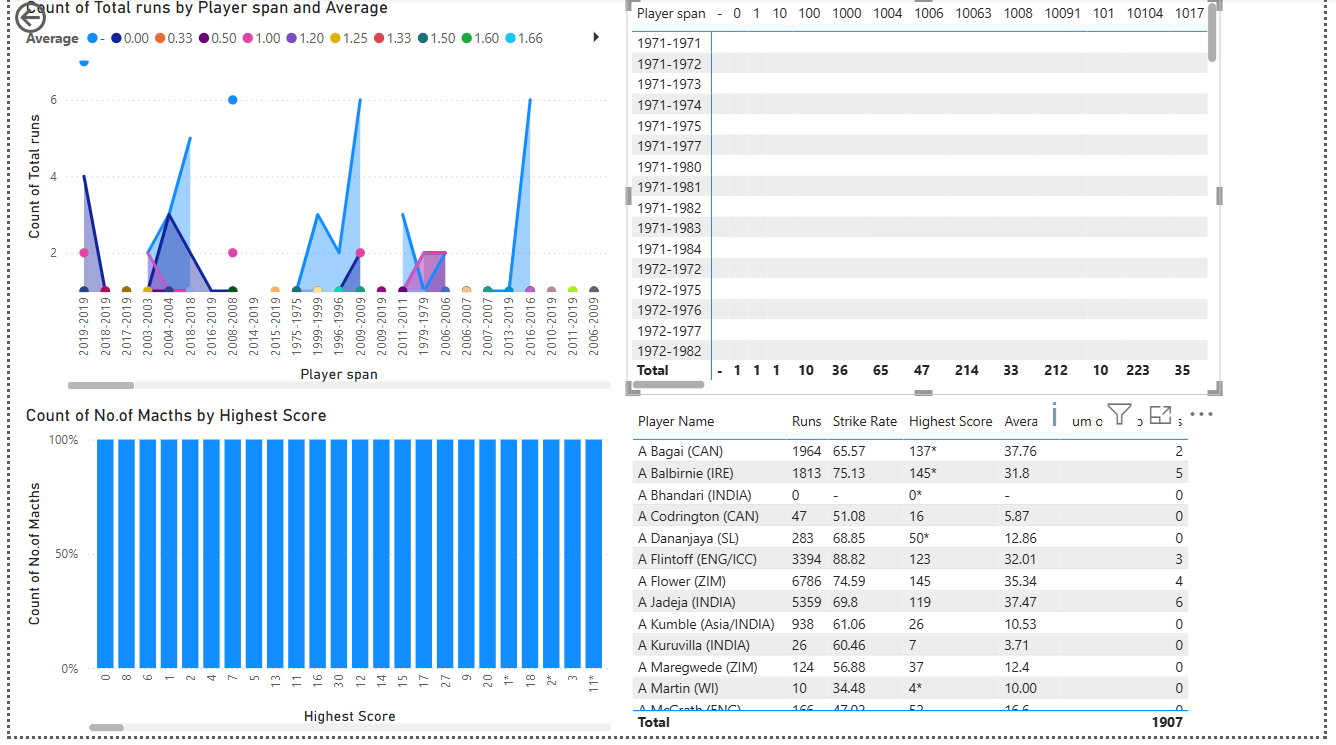

What the dashboard file says about the page in this screenshot:
{"tool":"powerbi","page":{"name":"Page 2","canvas":[1280,720],"ordinal":1},"visuals":[{"type":"areaChart","fields":{"Series":["ODI data.Average"],"Category":["ODI data.Player span"],"Y":["ODI data.Total runs"]},"box":[10,0,580,387.1],"z":0},{"type":"hundredPercentStackedColumnChart","fields":{"Category":["ODI data.Highest Score"],"Y":["ODI data.No.of Macths"]},"box":[10,397,580,323],"z":1},{"type":"pivotTable","fields":{"Rows":["ODI data.Player span"],"Columns":["ODI data.Total runs"],"Values":["ODI data.Innings"]},"box":[600,0,580,387],"z":2},{"type":"tableEx","fields":{"Values":["ODI data.Player Name","ODI data.Runs","ODI data.Strike Rate","ODI data.Highest Score","ODI data.Average","ODI data.NO.of 100's"]},"box":[600,397,580,323],"z":3},{"type":"actionButton","box":[0,0,100,40],"z":4}]}

Visuals, with their boxes in screenshot pixels (x1, y1, x2, y2), scaled from the page's 1280x720 canvas onto the 1336x745 screenshot:
areaChart - ODI data.Average x ODI data.Player span: 10 0 616 401
hundredPercentStackedColumnChart - ODI data.Highest Score x ODI data.No.of Macths: 10 411 616 744
pivotTable - ODI data.Player span x ODI data.Total runs: 626 0 1232 400
tableEx - ODI data.Player Name x ODI data.Runs: 626 411 1232 744
actionButton: 0 0 104 41
